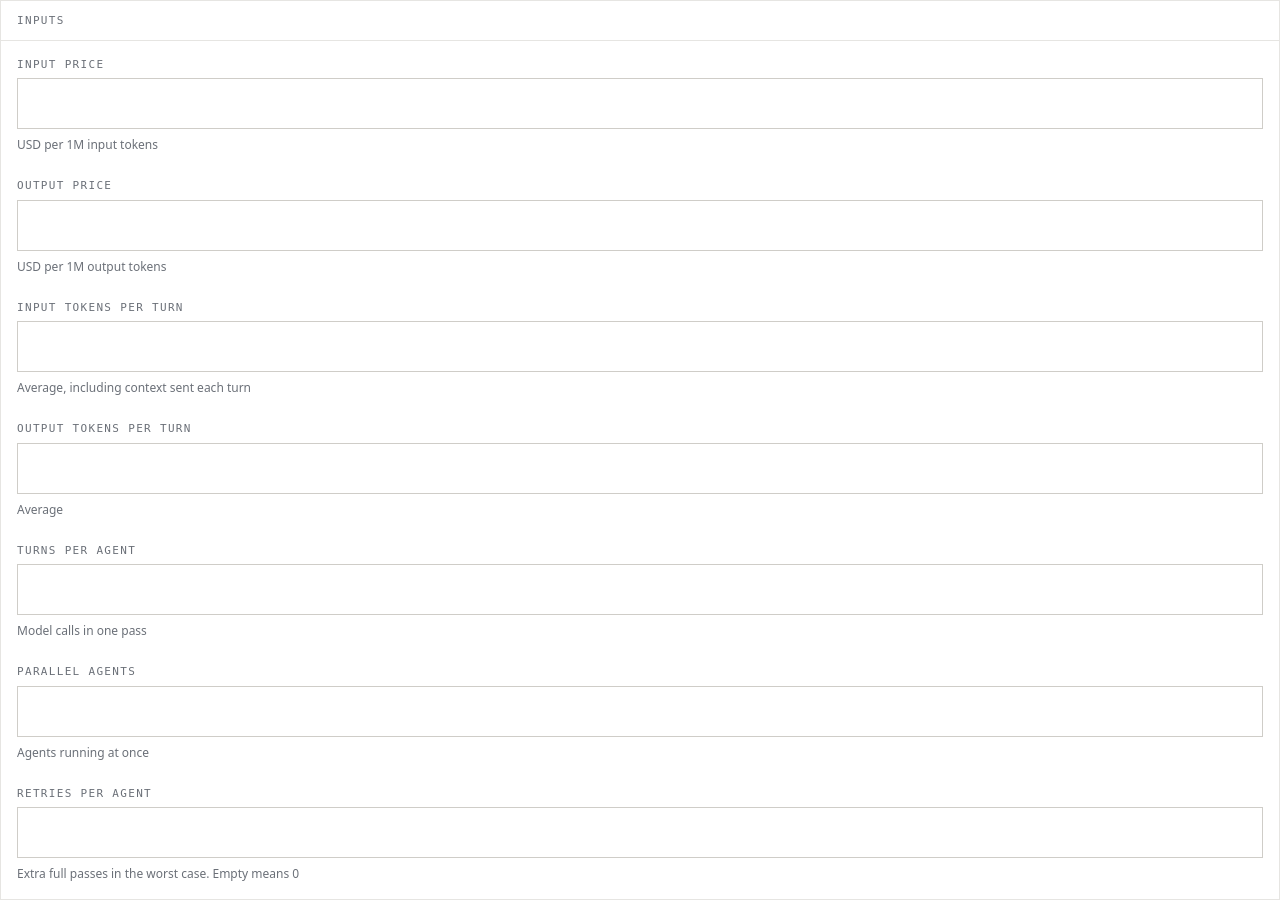
Test: Estimate panes › AC5: flags an invalid field with an alert
This screenshot has width=1280, height=900.
Type "abc" into the field labelled "Input price" at [640, 104], box [17,78,1263,129]
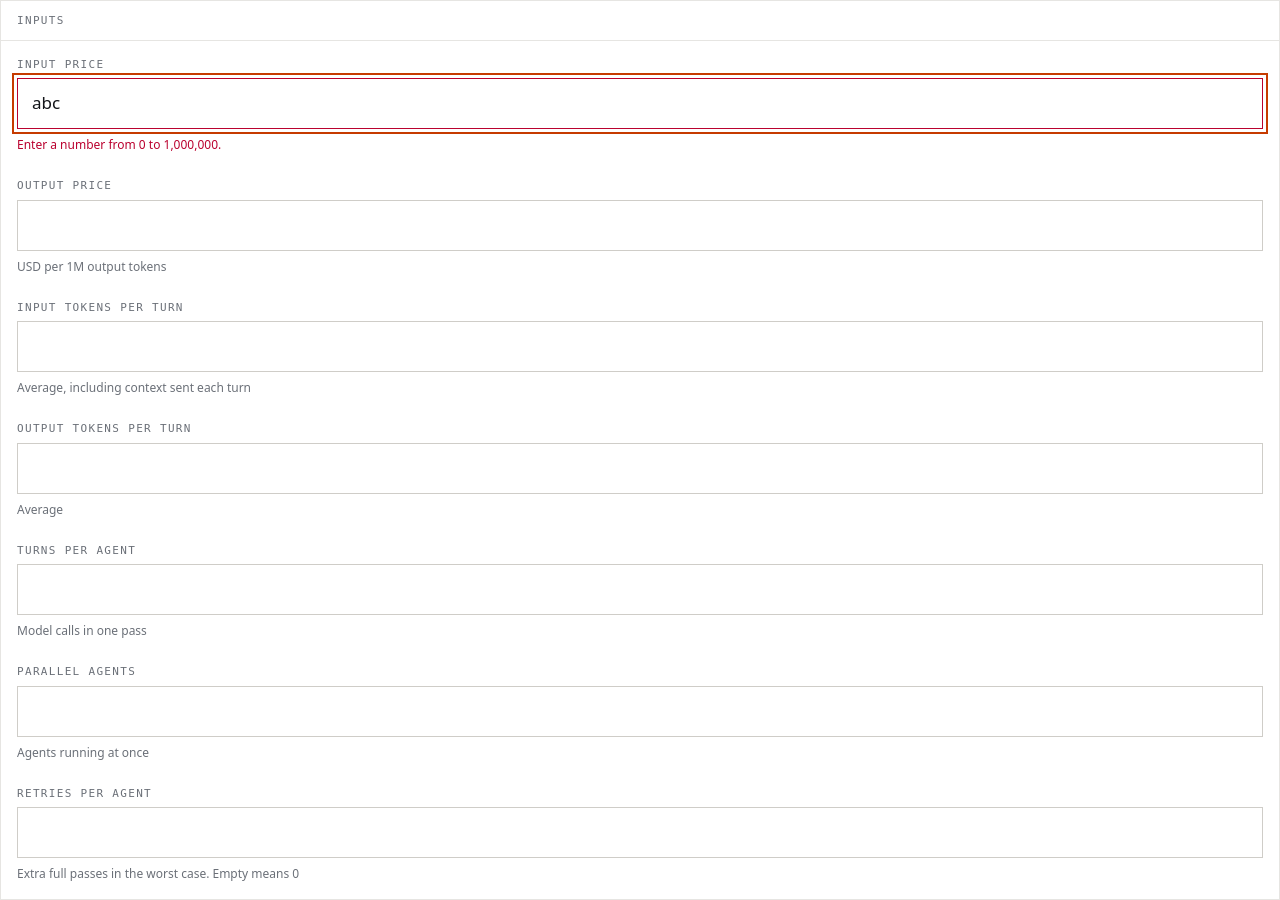
Check: the message reads "Enter a number from 0 to 1,000,000.", box [17,136,221,153]
